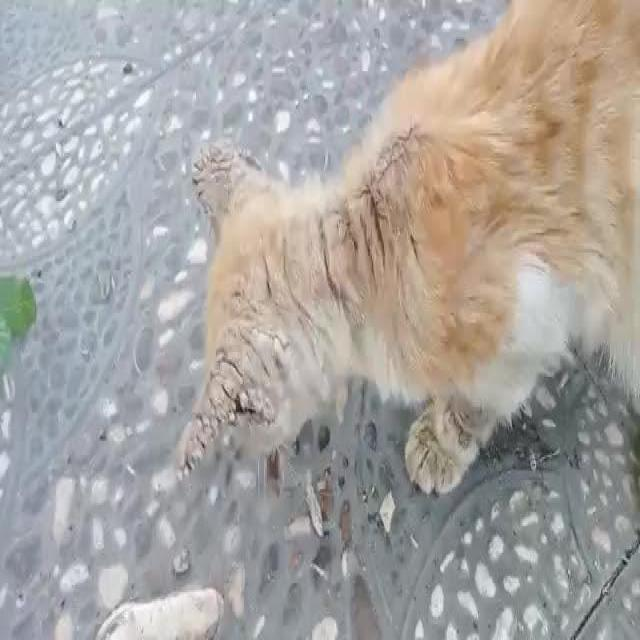ghe: (168, 323, 283, 487), (306, 198, 419, 293), (194, 158, 254, 239)
